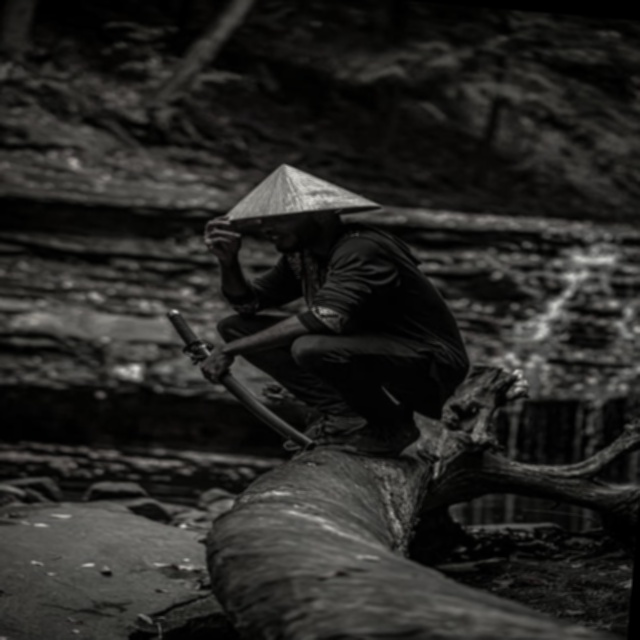Sharp-Object: (159, 297, 324, 459)
